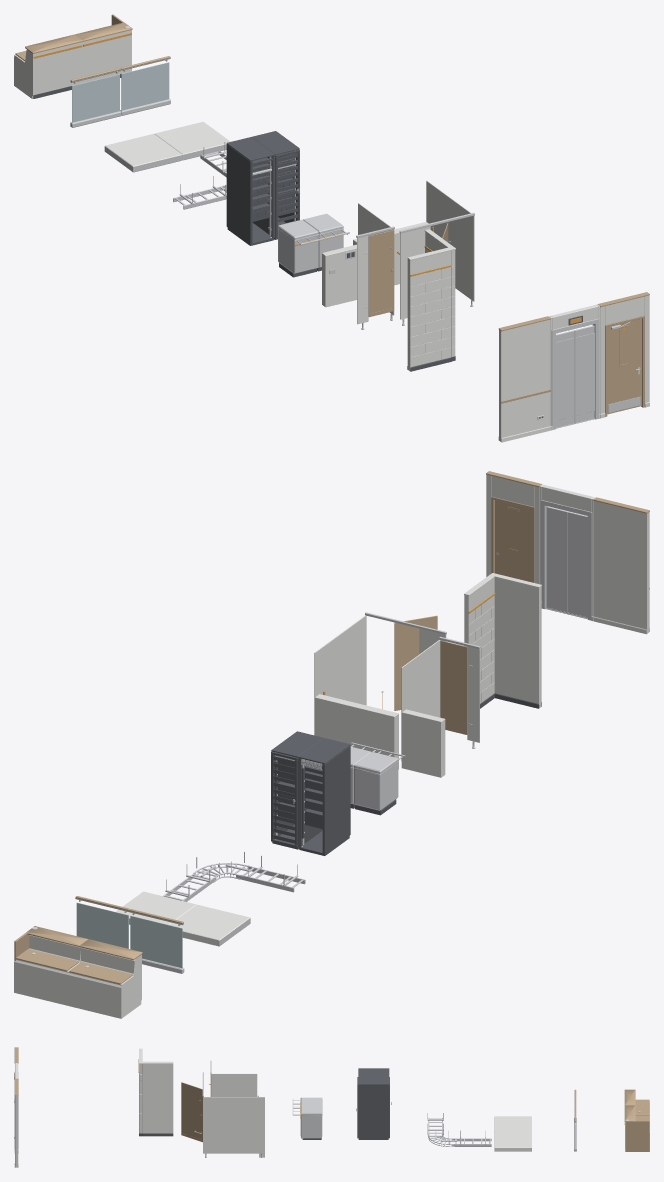
The model's file is office-lobby-and-facilities-connector-cases-4830d3f5__26337.glb.
The picture shows the model from 3 angles, top to bottom: view 1: azimuth 30°, elevation 25°; view 2: azimuth 150°, elevation 25°; view 3: azimuth 270°, elevation 25°; orthographic projection. The views are drawn at different scales.
Visible parts, largest first — view 1: 000-corridor-wall-module/0, 003-washroom-wall-module/0, 010-server-rack-42u-open/0, 007-wc-cubicle-accessible/0, 006-wc-cubicle-module/0, 002-fire-door-module/fire-door/surface, 019-reception-desk-module/0, 006-wc-cubicle-module/cubicle-door, 008-servery-counter-module/0, 002-fire-door-module/0, 001-lift-door-module/lift-door-right, 001-lift-door-module/lift-door-left (+12 smaller); view 2: 007-wc-cubicle-accessible/0, 000-corridor-wall-module/0, 006-wc-cubicle-module/0, 003-washroom-wall-module/0, 010-server-rack-42u-open/0, 019-reception-desk-module/0, 002-fire-door-module/fire-door/surface, 005-washroom-wall-module/0, 020-reception-desk-end-module/0, 006-wc-cubicle-module/cubicle-door, 008-servery-counter-module/0, 001-lift-door-module/lift-door-right (+15 smaller); view 3: 007-wc-cubicle-accessible/0, 005-washroom-wall-module/0, 011-server-rack-42u-doors/0, 007-wc-cubicle-accessible/cubicle-door, 006-wc-cubicle-module/0, 020-reception-desk-end-module/1, 009-servery-counter-end/0, 016-corridor-ceiling-module-plain/0, 015-corridor-ceiling-module/0, 019-reception-desk-module/1, 014-cable-ladder-run/0, 002-fire-door-module/0 (+4 smaller).
Boxes of the visible parts, left/top/right/bottom form: 000-corridor-wall-module/0: left=498, top=319, right=550, bottom=442; 003-washroom-wall-module/0: left=407, top=247, right=451, bottom=370; 010-server-rack-42u-open/0: left=226, top=137, right=274, bottom=245; 007-wc-cubicle-accessible/0: left=353, top=180, right=474, bottom=319; 006-wc-cubicle-module/0: left=322, top=203, right=394, bottom=324; 002-fire-door-module/fire-door/surface: left=607, top=319, right=641, bottom=414; 019-reception-desk-module/0: left=14, top=42, right=82, bottom=98; 006-wc-cubicle-module/cubicle-door: left=368, top=230, right=394, bottom=317; 008-servery-counter-module/0: left=278, top=219, right=325, bottom=273; 002-fire-door-module/0: left=600, top=295, right=649, bottom=418; 001-lift-door-module/lift-door-right: left=574, top=325, right=594, bottom=423; 001-lift-door-module/lift-door-left: left=556, top=330, right=575, bottom=427; 007-wc-cubicle-accessible/0: left=314, top=615, right=446, bottom=769; 000-corridor-wall-module/0: left=593, top=501, right=649, bottom=634; 006-wc-cubicle-module/0: left=401, top=640, right=479, bottom=777; 003-washroom-wall-module/0: left=494, top=574, right=541, bottom=707; 010-server-rack-42u-open/0: left=298, top=738, right=350, bottom=855; 019-reception-desk-module/0: left=67, top=947, right=141, bottom=1018; 002-fire-door-module/fire-door/surface: left=495, top=500, right=531, bottom=582; 005-washroom-wall-module/0: left=464, top=575, right=494, bottom=703; 020-reception-desk-end-module/0: left=14, top=935, right=80, bottom=1005; 006-wc-cubicle-module/cubicle-door: left=440, top=640, right=467, bottom=734; 008-servery-counter-module/0: left=354, top=749, right=405, bottom=810; 001-lift-door-module/lift-door-right: left=546, top=506, right=568, bottom=612; 007-wc-cubicle-accessible/0: left=203, top=1097, right=264, bottom=1157; 005-washroom-wall-module/0: left=142, top=1061, right=173, bottom=1133; 011-server-rack-42u-doors/0: left=358, top=1076, right=389, bottom=1139; 007-wc-cubicle-accessible/cubicle-door: left=181, top=1082, right=202, bottom=1142; 006-wc-cubicle-module/0: left=211, top=1073, right=257, bottom=1096; 020-reception-desk-end-module/1: left=624, top=1105, right=649, bottom=1151; 009-servery-counter-end/0: left=292, top=1105, right=322, bottom=1138; 016-corridor-ceiling-module-plain/0: left=494, top=1132, right=531, bottom=1151; 015-corridor-ceiling-module/0: left=494, top=1116, right=531, bottom=1131; 019-reception-desk-module/1: left=624, top=1089, right=649, bottom=1115; 014-cable-ladder-run/0: left=454, top=1130, right=491, bottom=1146; 002-fire-door-module/0: left=14, top=1094, right=18, bottom=1167.
Size of the model in its own units: 3.61 by 2.6 by 20.49.
